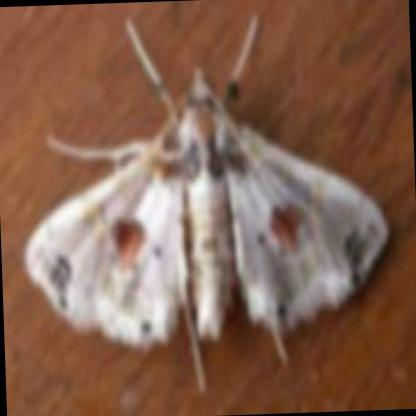leucinodes: (23, 69, 387, 357)
